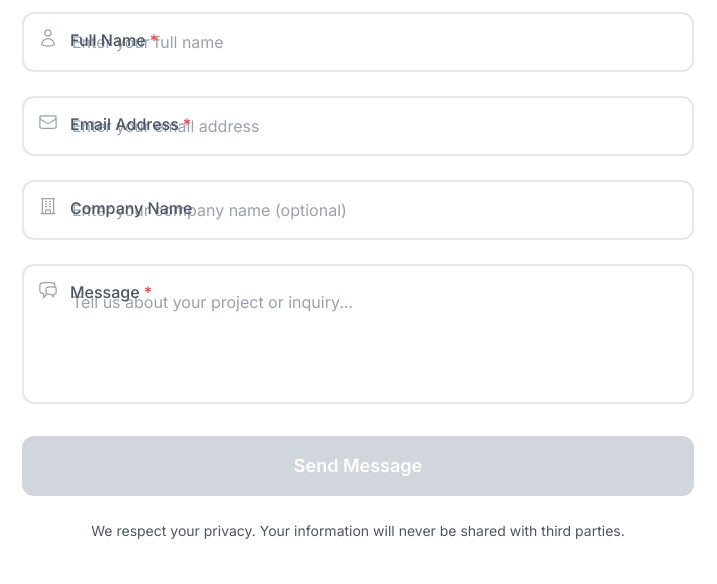
Test: ContactForm › Form Validation › validates email format
Type "invalid-email" into the field labelled "Email Address*" at (358, 126), box [22,96,694,156]
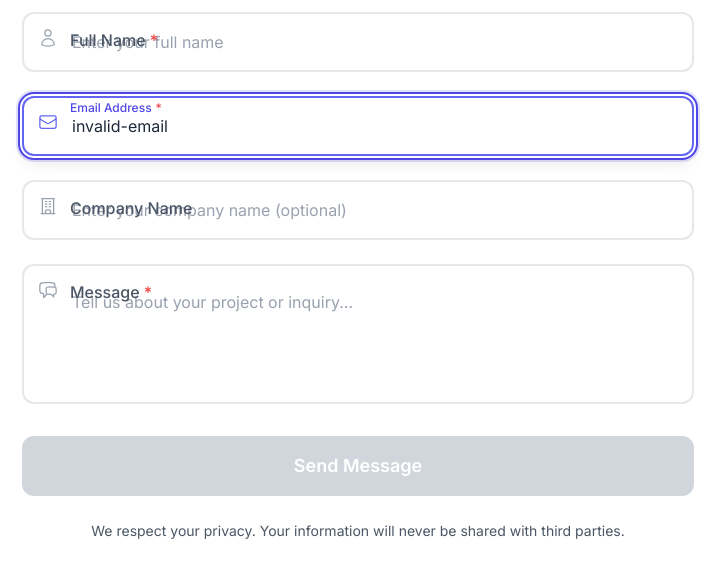
Press Tab
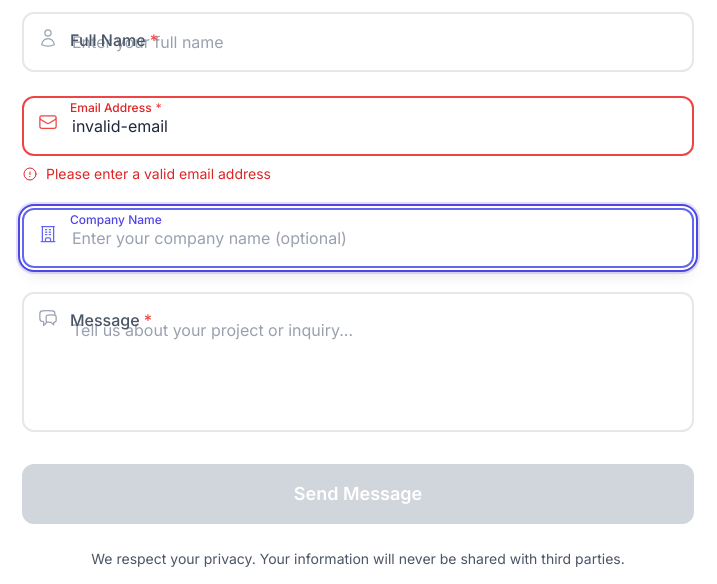
Check: the text "Please enter a valid email address" is shown, box [46,164,271,184]
